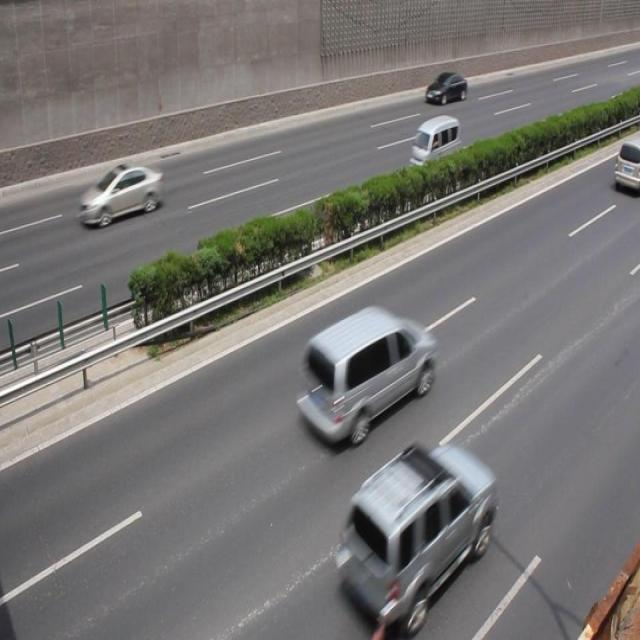car: (331, 442, 494, 618), (78, 166, 164, 226), (423, 70, 468, 102)
truck: (296, 309, 435, 446), (407, 116, 459, 177), (612, 134, 640, 190)
